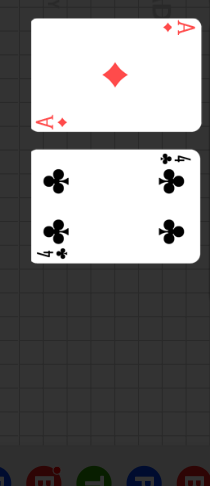4C: (36, 245, 70, 260)
AD: (35, 112, 70, 129)
